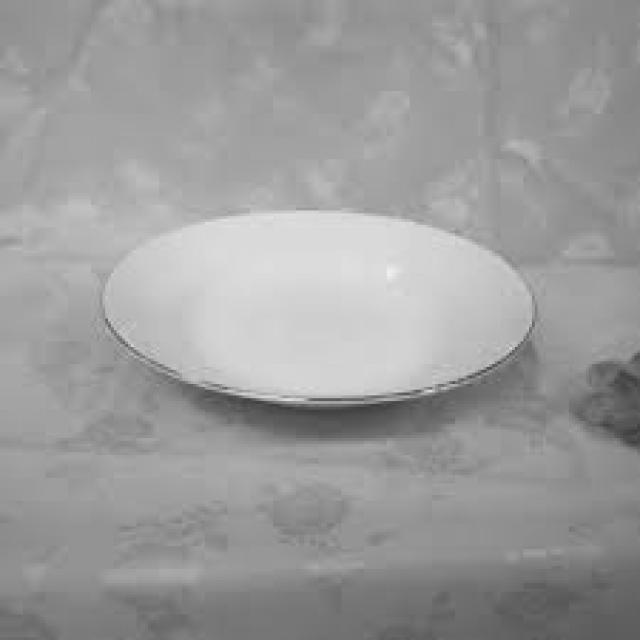dish: (99, 175, 545, 438)
